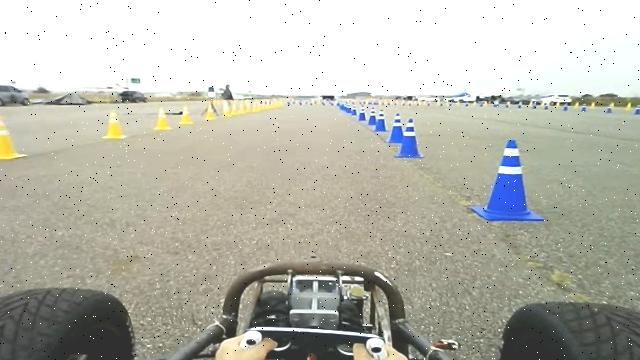blue cone: (469, 138, 545, 222), (395, 118, 424, 158), (387, 113, 404, 143), (374, 109, 388, 132), (368, 107, 377, 125), (339, 103, 352, 114), (358, 105, 366, 121), (634, 104, 640, 114), (563, 103, 569, 111), (581, 105, 587, 112), (606, 107, 613, 113)
yellow cone: (0, 114, 29, 160), (103, 109, 127, 140), (153, 106, 173, 130), (179, 105, 194, 124), (205, 103, 216, 120), (238, 100, 248, 115), (223, 106, 232, 118), (624, 101, 632, 111), (608, 102, 616, 108), (574, 101, 580, 108), (591, 101, 596, 108)
